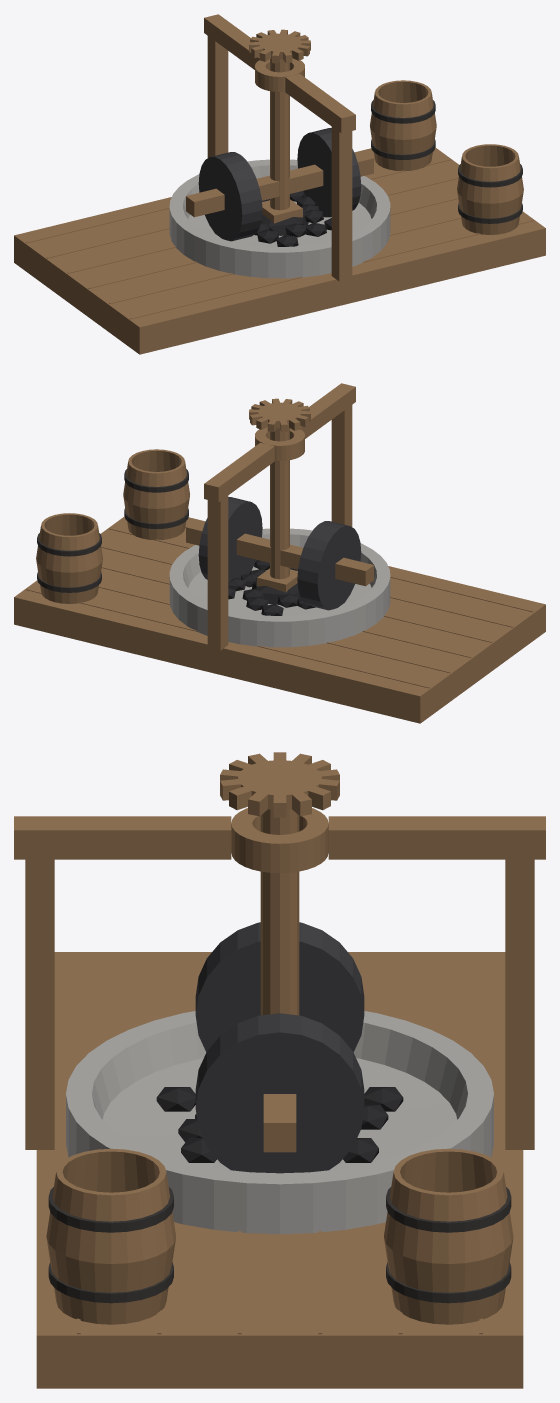
File: PowderMill.fbx
The picture shows the model from 3 angles, top to bottom: view 1: azimuth 30°, elevation 25°; view 2: azimuth 150°, elevation 25°; view 3: azimuth 270°, elevation 25°; orthographic projection. The views are drawn at different scales.
Parts seen in each view (by area): view 1: mill_base, mill_pan, mill_frame, mill_barrels, mill_arm, mill_runners, mill_powder, mill_barrel_hoops; view 2: mill_base, mill_pan, mill_frame, mill_barrels, mill_arm, mill_runners, mill_powder, mill_barrel_hoops; view 3: mill_base, mill_pan, mill_frame, mill_barrels, mill_runners, mill_arm, mill_barrel_hoops, mill_powder.
Part boxes in pixels (<box>): mill_base: <box>14,147,545,354</box>; mill_pan: <box>169,159,390,278</box>; mill_frame: <box>204,14,355,281</box>; mill_barrels: <box>370,80,523,234</box>; mill_arm: <box>186,29,373,223</box>; mill_runners: <box>198,128,361,241</box>; mill_powder: <box>254,191,331,246</box>; mill_barrel_hoops: <box>371,100,522,223</box>; mill_base: <box>14,516,545,723</box>; mill_pan: <box>169,528,390,647</box>; mill_frame: <box>204,383,355,650</box>; mill_barrels: <box>36,449,189,603</box>; mill_arm: <box>186,398,373,592</box>; mill_runners: <box>198,497,361,610</box>; mill_powder: <box>228,560,315,615</box>; mill_barrel_hoops: <box>37,469,188,592</box>; mill_base: <box>36,952,523,1388</box>; mill_pan: <box>66,1011,493,1234</box>; mill_frame: <box>14,808,545,1149</box>; mill_barrels: <box>46,1148,513,1324</box>; mill_runners: <box>195,922,364,1173</box>; mill_arm: <box>220,752,339,1152</box>; mill_barrel_hoops: <box>48,1187,511,1303</box>; mill_powder: <box>156,1087,403,1162</box>.
Size of the model in its own units: 2.8 by 1.42 by 1.64.
